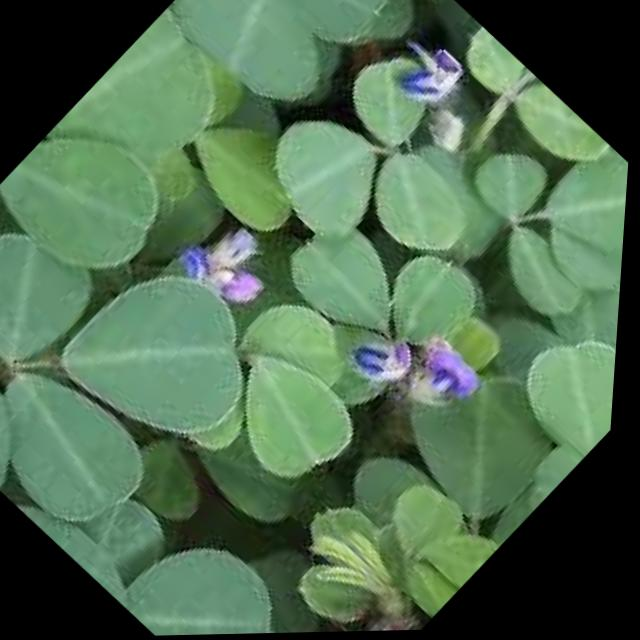Flower: (151, 185, 317, 342), (323, 295, 444, 411), (379, 28, 482, 127), (405, 334, 503, 430)
